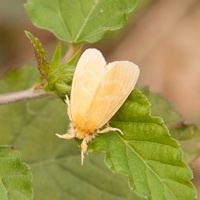insect: (56, 48, 139, 164)
